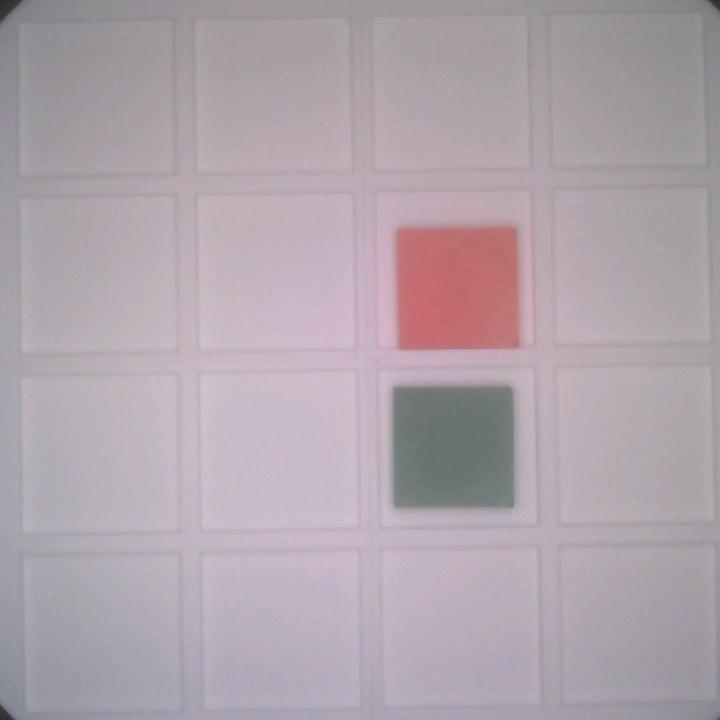Green square: (388, 378, 520, 507)
Orange square: (386, 221, 524, 354)
